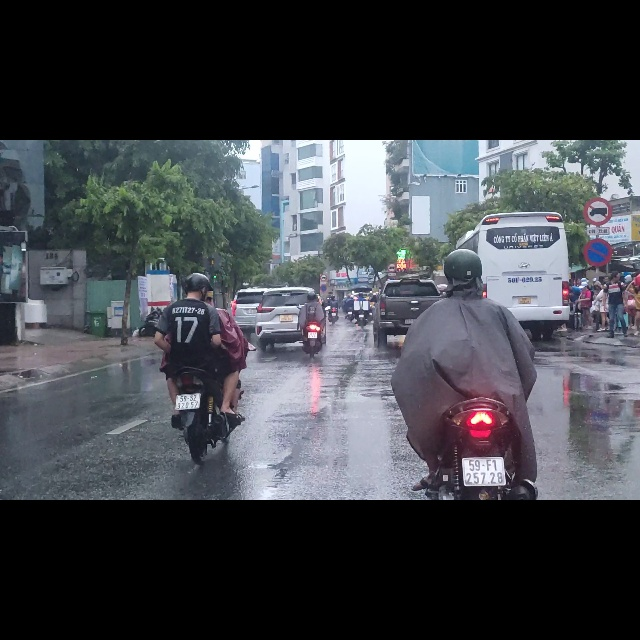bien_cam: (584, 172, 613, 226), (584, 101, 612, 153), (388, 219, 396, 235), (320, 257, 327, 269), (321, 239, 327, 250)
